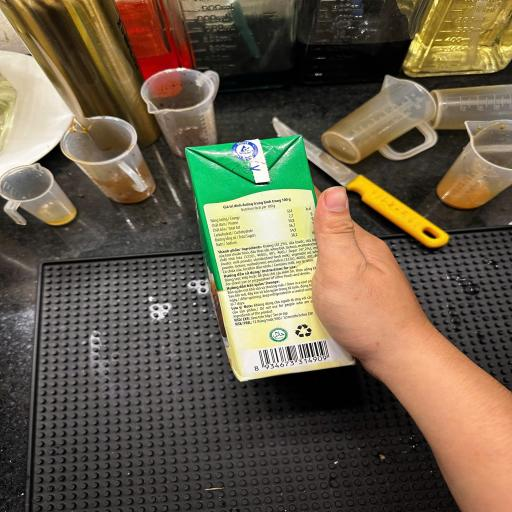sua_dac: (173, 116, 446, 406)
